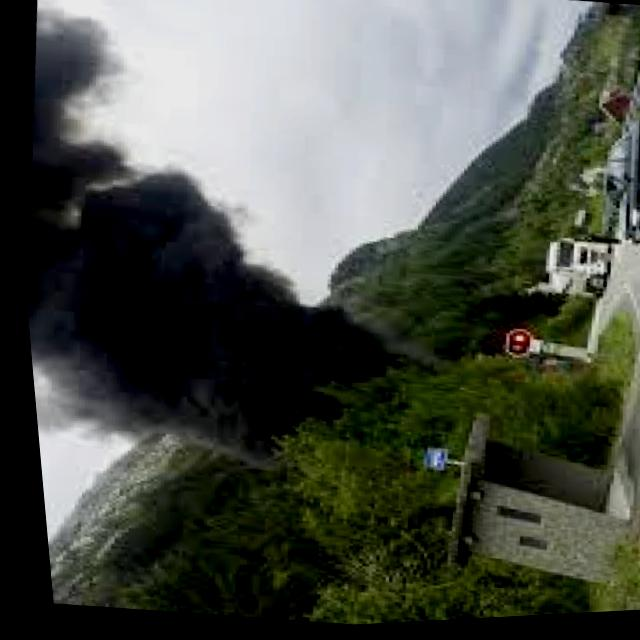Smoke: (9, 115, 416, 513)
